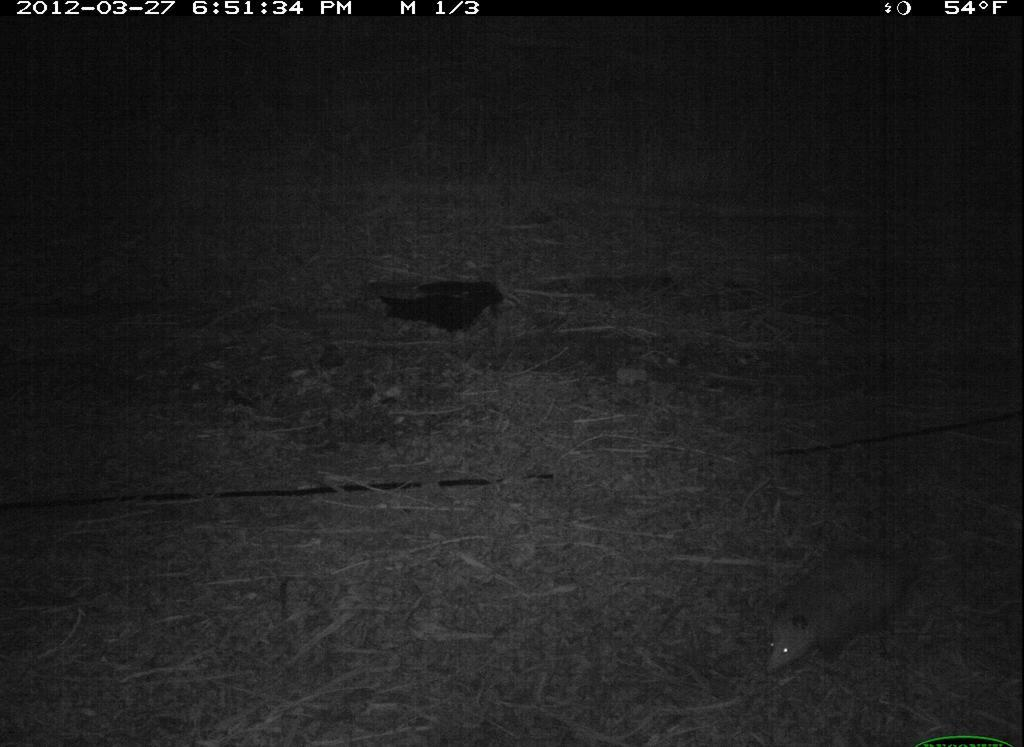opossum: (753, 518, 981, 692)
